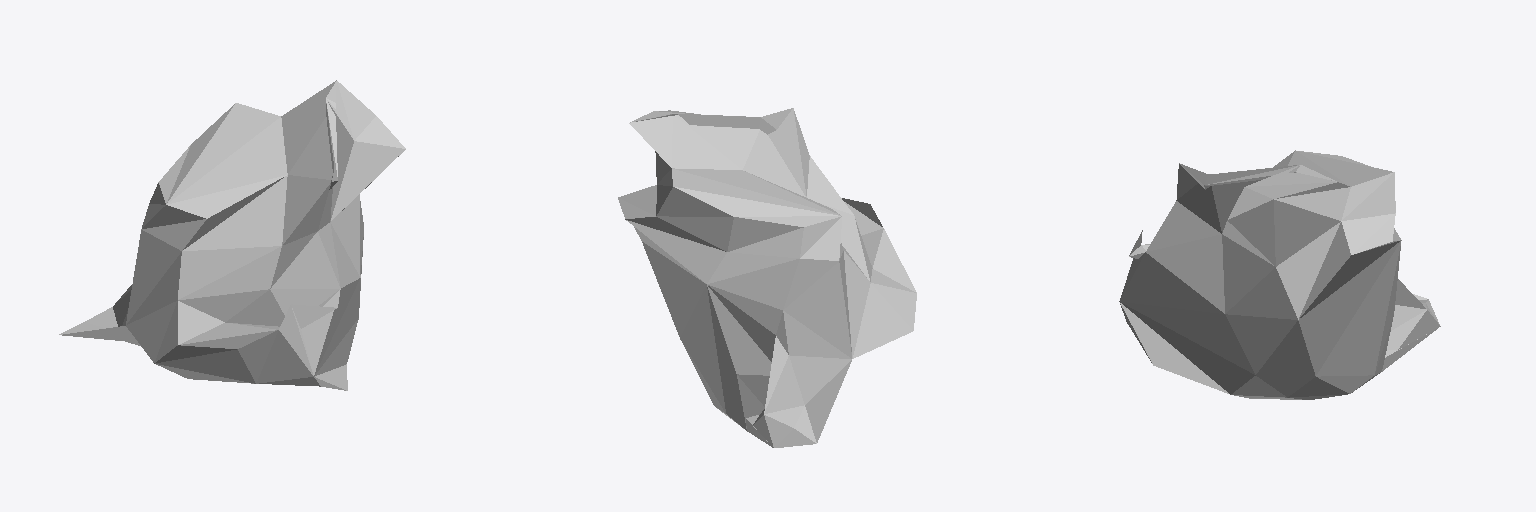
The model's file is Roca6.obj.
3 renders of one model, left to right at view 1: azimuth 30°, elevation 25°; view 2: azimuth 150°, elevation 25°; view 3: azimuth 270°, elevation 25°, orthographic.
Parts seen in each view (by area): view 1: Icosphere; view 2: Icosphere; view 3: Icosphere.
Part boxes in pixels (x1,y1,x2,y2): Icosphere: (59, 80, 405, 390); Icosphere: (618, 108, 916, 447); Icosphere: (1119, 150, 1440, 399).
Size of the model in its own units: 1.97 by 1.99 by 2.22.